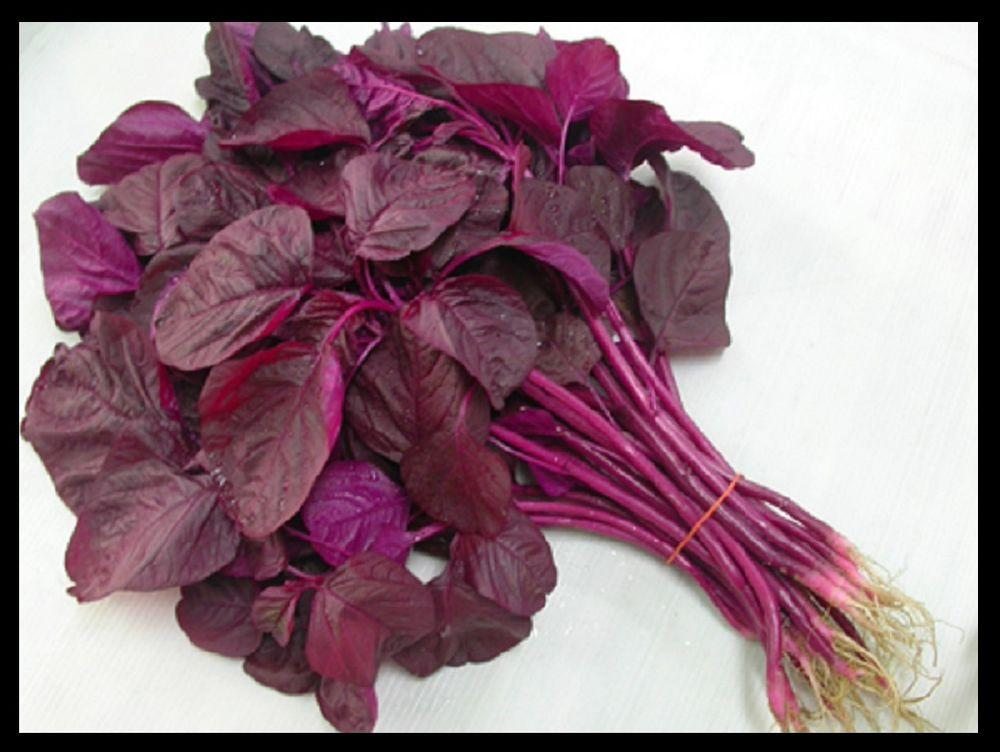amaranth: (22, 21, 953, 734), (449, 231, 952, 733), (661, 469, 745, 570)
